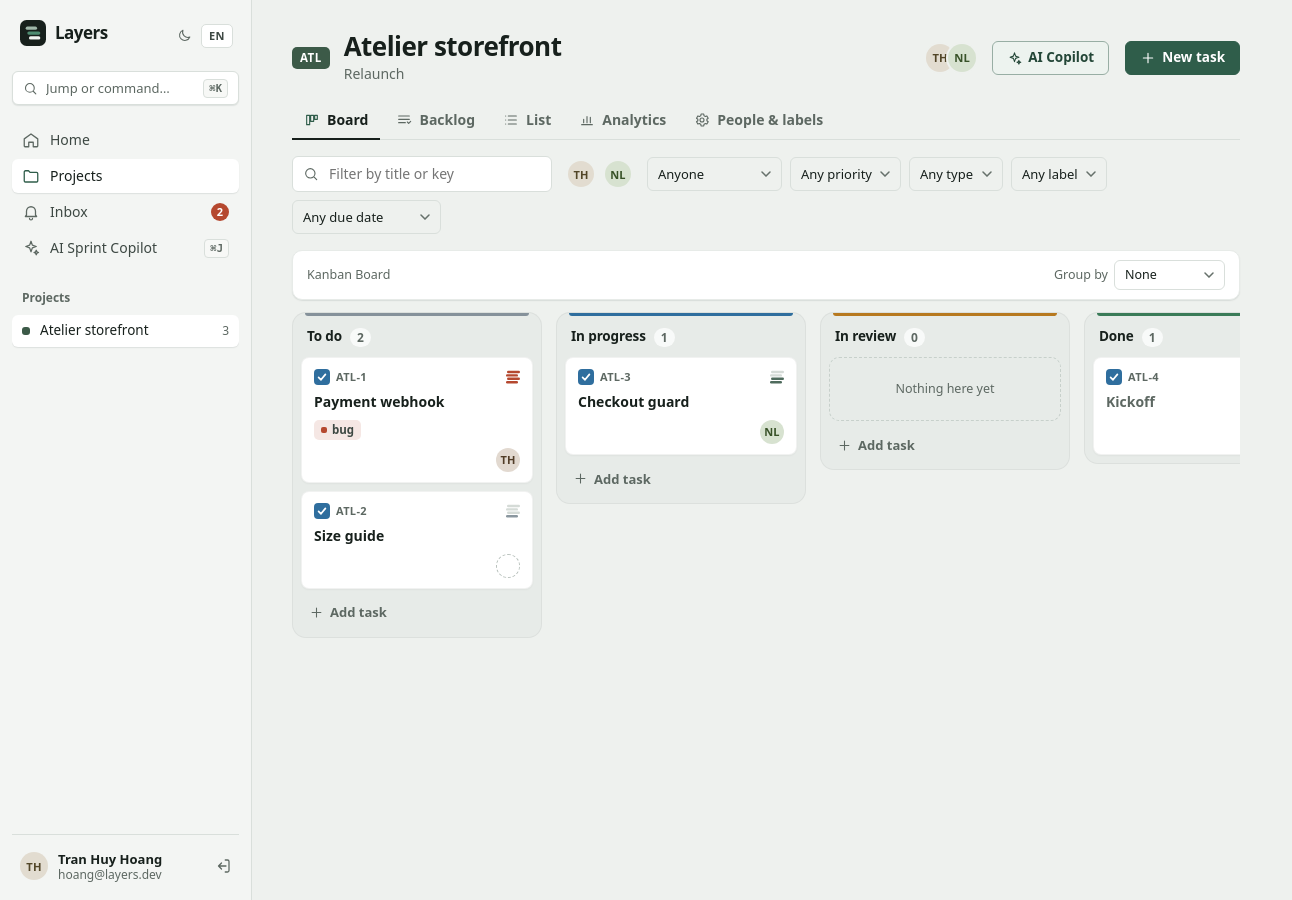
Test case: Project page › filters by typing and by assignee
Expected: the element with test id "column-Todo" is shown, 292,312 -> 542,638
Type "checkout" into the field named "Filter tasks" at (422, 174), box 292,156 -> 552,192
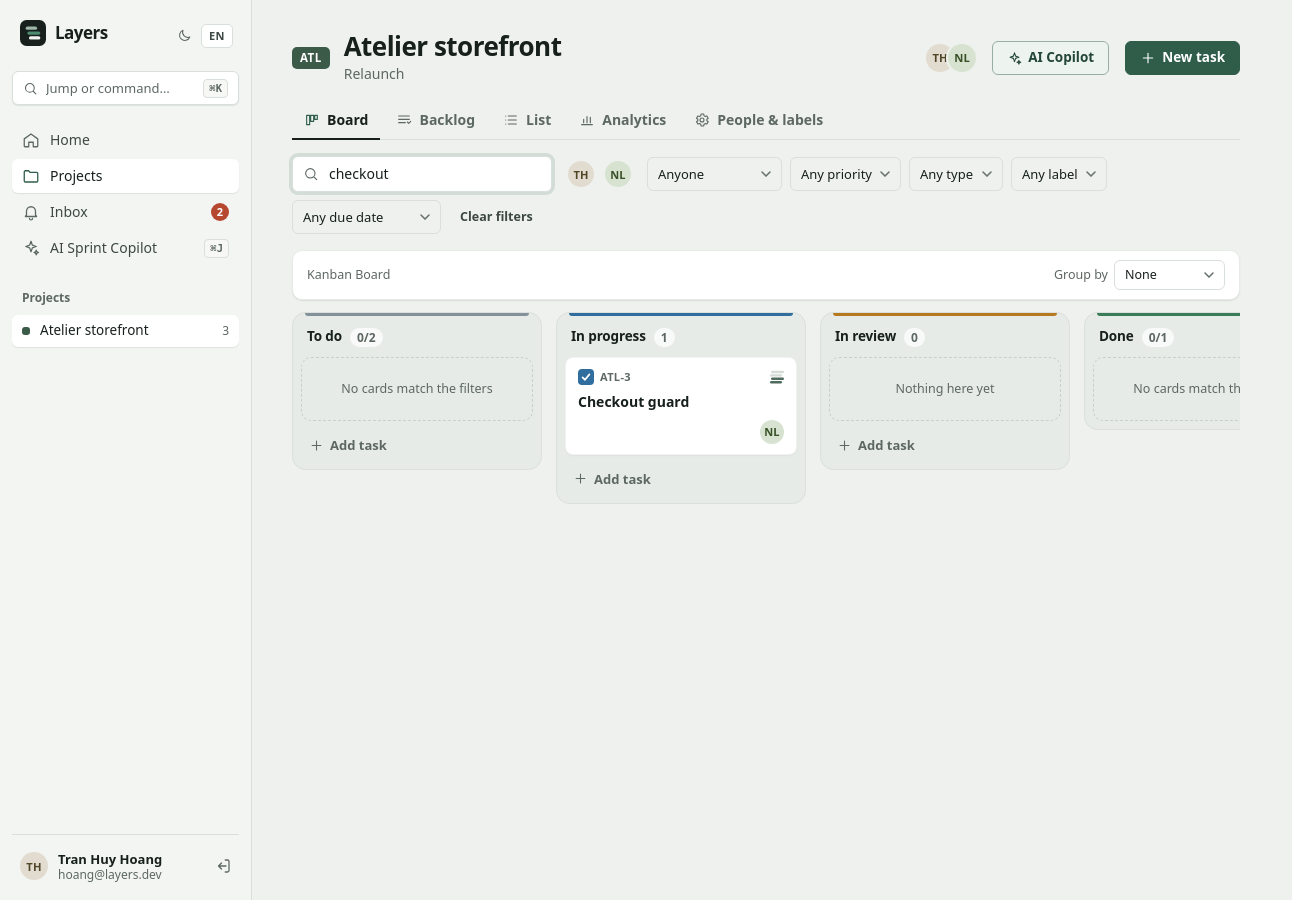
Expected: the text "Checkout guard" is shown, 578,392 -> 689,411
Expected: the button "Payment webhook" is gone
Clear the field named "Filter tasks" at (422, 174), box 292,156 -> 552,192
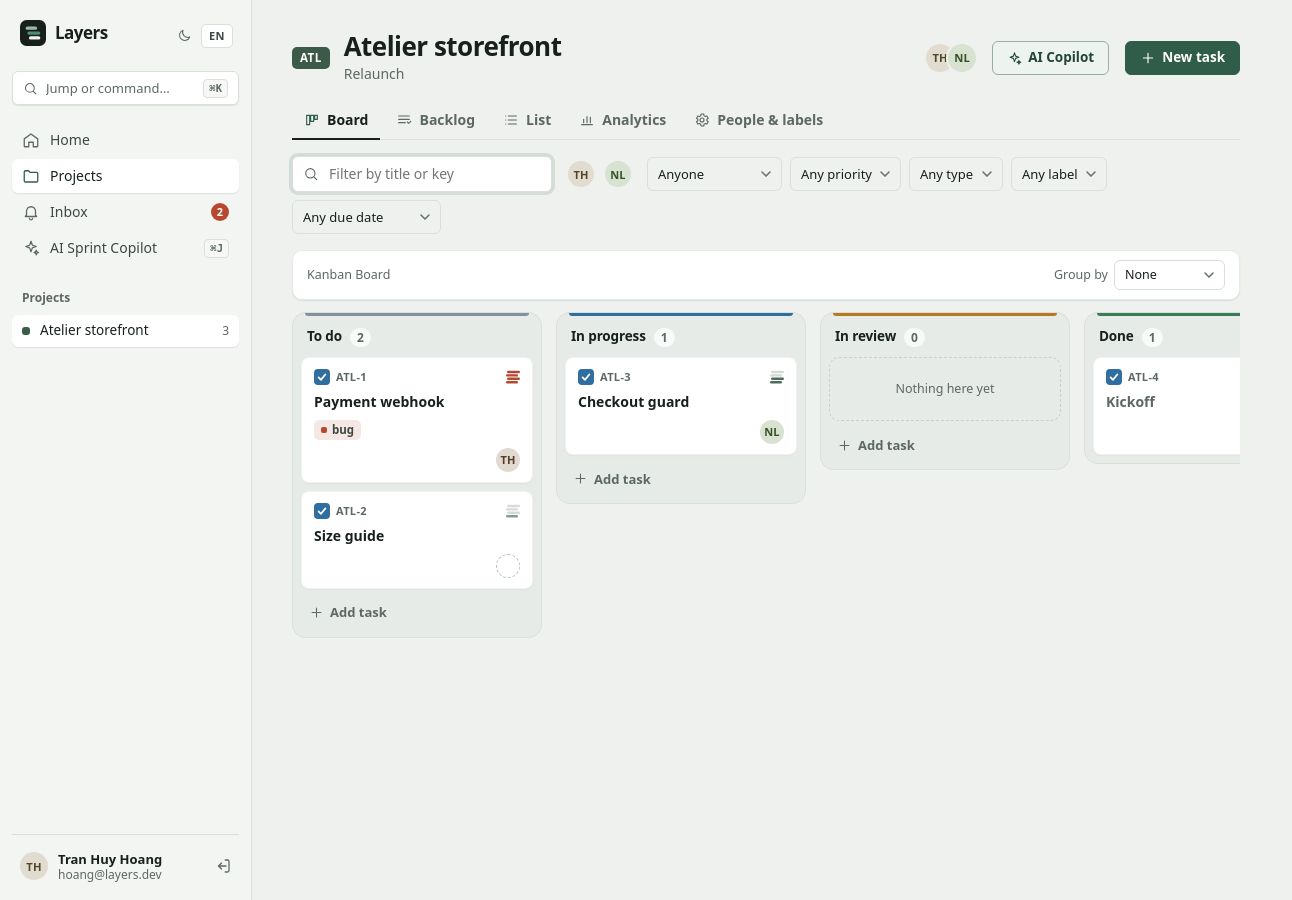
Select "Assigned to me" in the dropdown named "Assignee" at (714, 174), box 647,157 -> 782,191
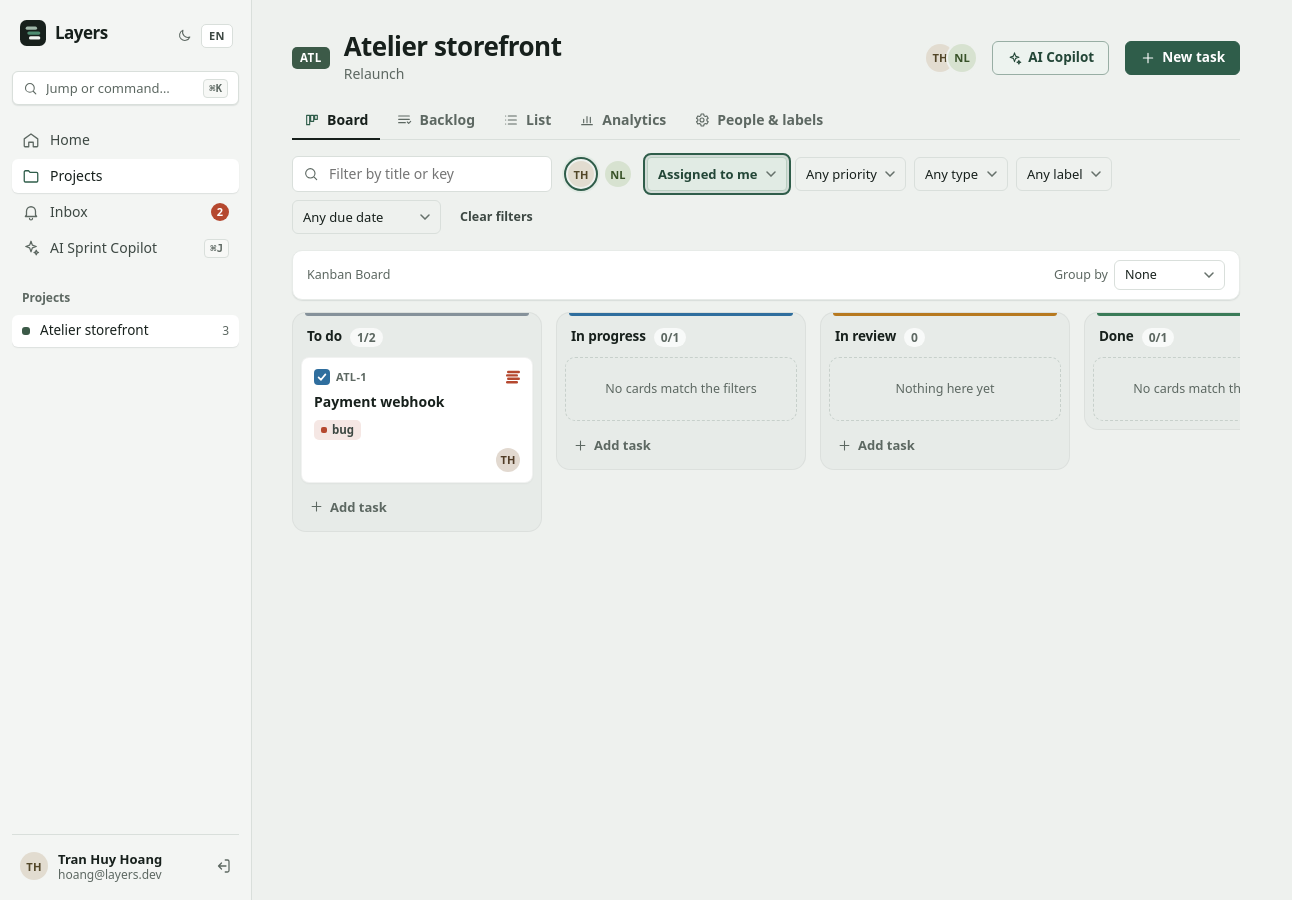
Expected: the text "Payment webhook" is shown, 314,392 -> 444,411
Expected: the button "Checkout guard" is gone
